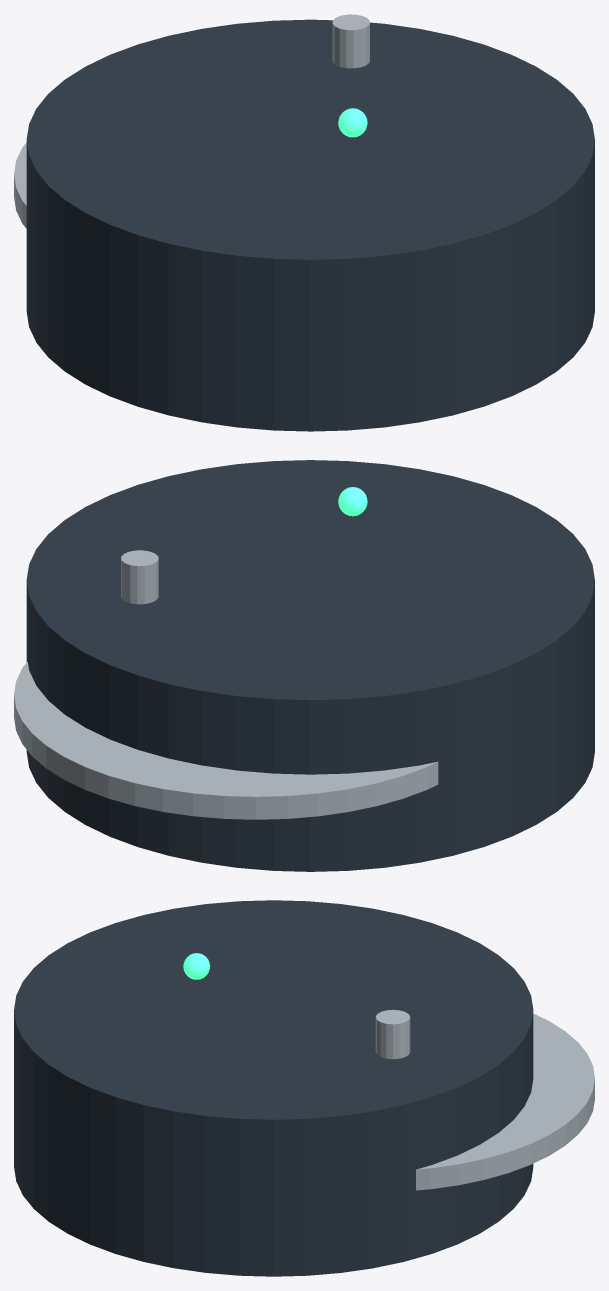
Rendered from digital_vault.glb.
3 views of the same model, one above another, from view 1: azimuth 30°, elevation 25°; view 2: azimuth 150°, elevation 25°; view 3: azimuth 270°, elevation 25° (orthographic). The views are drawn at different scales.
Parts seen in each view (by area): view 1: vault_body, lock_bolt, separate_door, auth_indicator; view 2: vault_body, separate_door, lock_bolt, auth_indicator; view 3: vault_body, separate_door, lock_bolt, auth_indicator.
Boxes of the visible parts, x1,y1,x2,y2 form: vault_body: [26, 19, 594, 431]; lock_bolt: [332, 14, 369, 68]; separate_door: [14, 142, 26, 228]; auth_indicator: [338, 108, 367, 137]; vault_body: [26, 460, 594, 871]; separate_door: [14, 662, 438, 819]; lock_bolt: [121, 550, 158, 604]; auth_indicator: [338, 487, 367, 516]; vault_body: [14, 900, 533, 1276]; separate_door: [416, 1013, 594, 1190]; lock_bolt: [375, 1009, 410, 1059]; auth_indicator: [183, 953, 210, 979].
Bounding box in the file's own units: 2.7 × 1.22 × 3.02.
